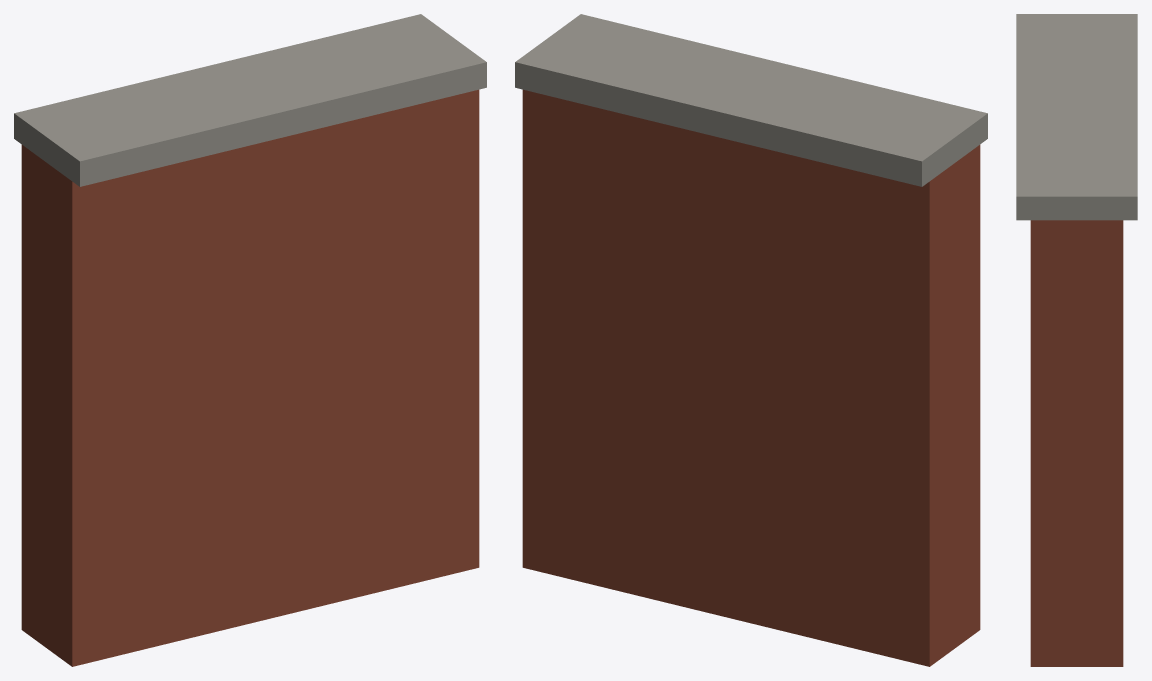
The model's file is boundary.brick_wall.h1200.glb.
3 views of the same model, side by side, from view 1: azimuth 30°, elevation 25°; view 2: azimuth 150°, elevation 25°; view 3: azimuth 270°, elevation 25° (orthographic). The views are drawn at different scales.
Visible parts, largest first — view 1: main__brick, main__concrete; view 2: main__brick, main__concrete; view 3: main__brick, main__concrete.
Boxes of the visible parts, <box> form: main__brick: <box>21,89,479,666</box>; main__concrete: <box>14,14,486,186</box>; main__brick: <box>522,89,980,666</box>; main__concrete: <box>515,14,987,186</box>; main__brick: <box>1030,220,1123,666</box>; main__concrete: <box>1016,14,1137,220</box>.
Size of the model in its own units: 1 by 1.2 by 0.28.
